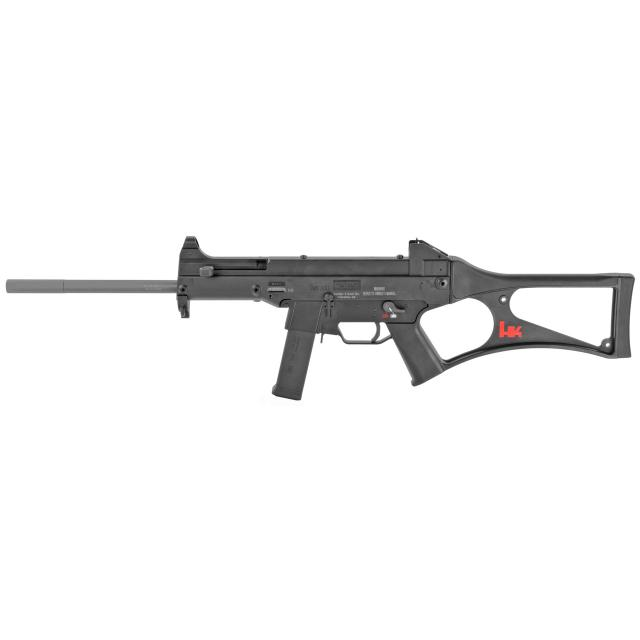SMG: (5, 238, 636, 402)
